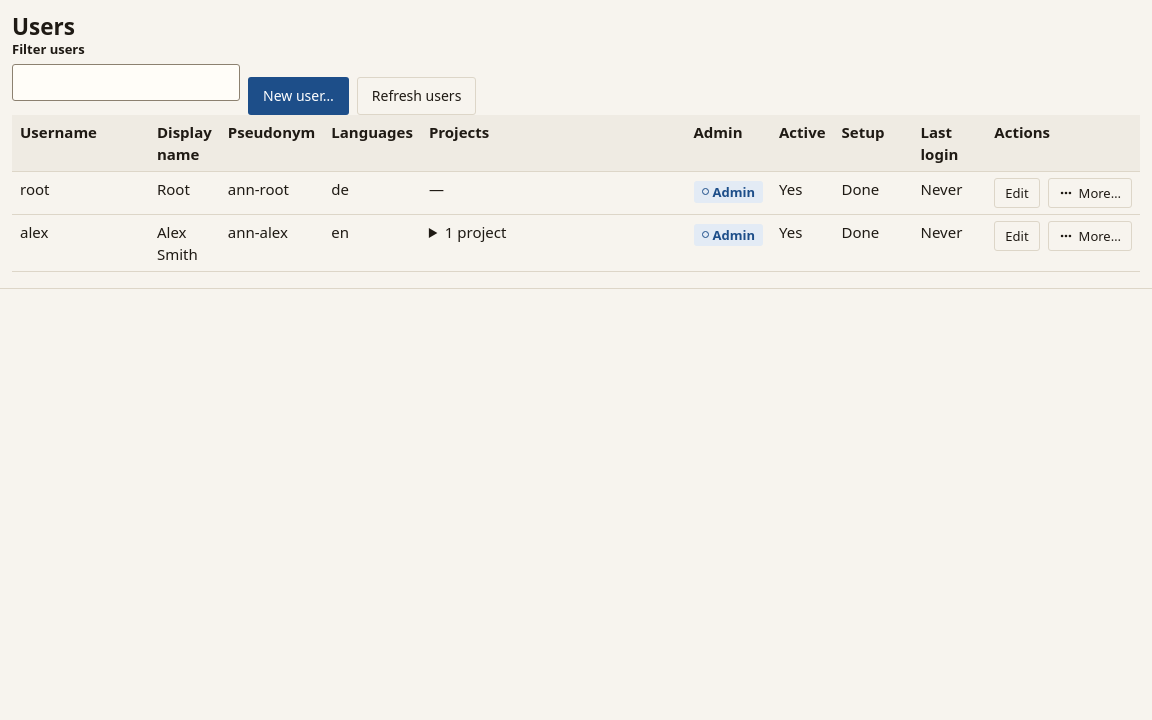
Test: users administration › issues a reset code for the selected actual username only after confirmation
Click the button "More…" in the row of "Alex Smith".
click(1090, 236)  # box [1048,221,1132,251]
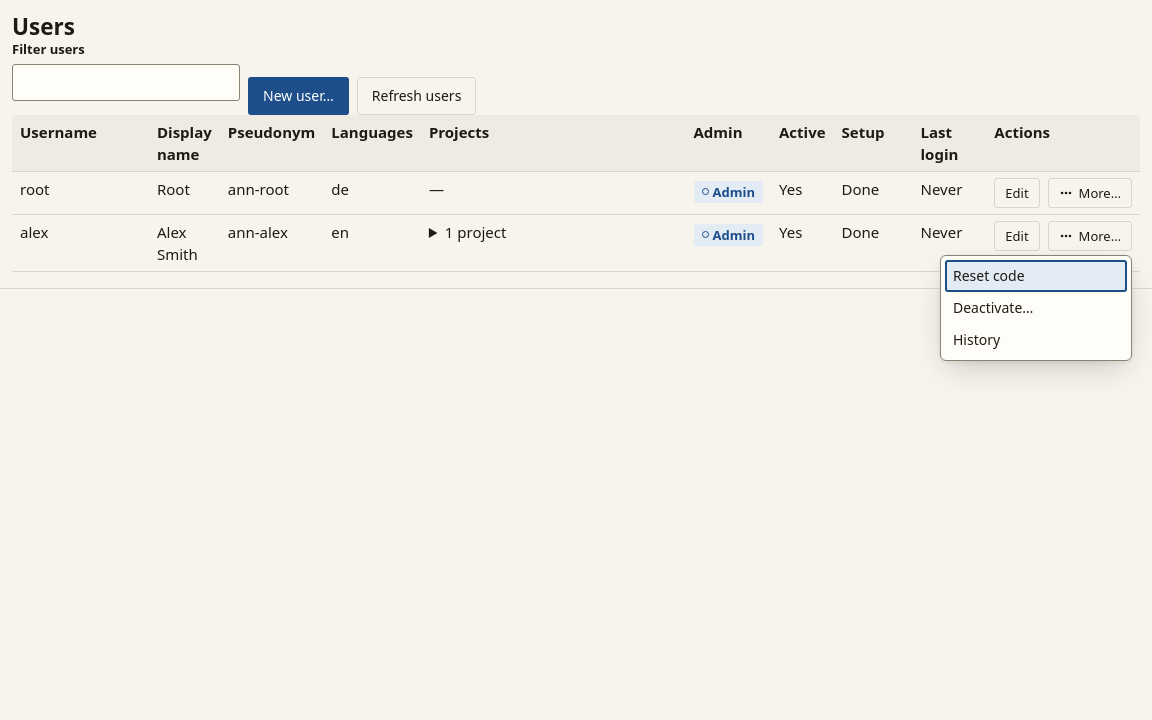
Click the menu item "Reset code".
click(1036, 276)  # box [945,260,1127,292]
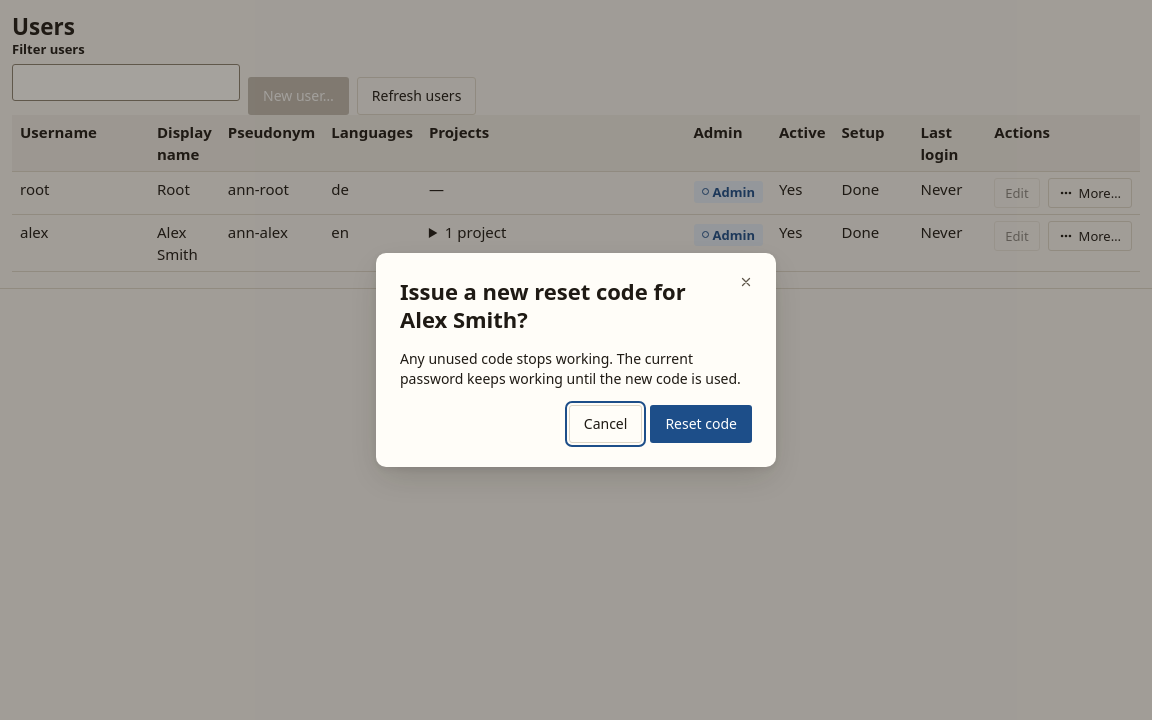
Expected: the dialog "Issue a new reset code for Alex Smith?" shows "Any unused code stops working.", [400,349,741,388]
Click the button "Cancel".
click(606, 424)  # box [569,405,642,443]
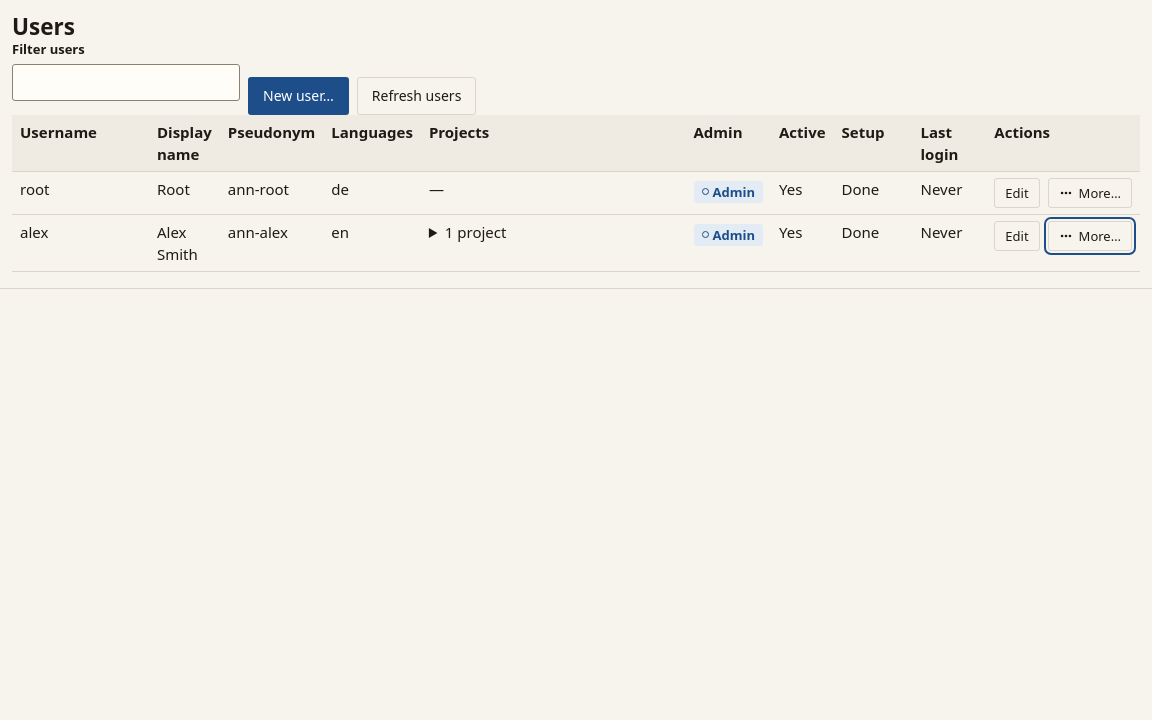
Click the button "More…" in the row of "Alex Smith".
click(1090, 236)  # box [1048,221,1132,251]
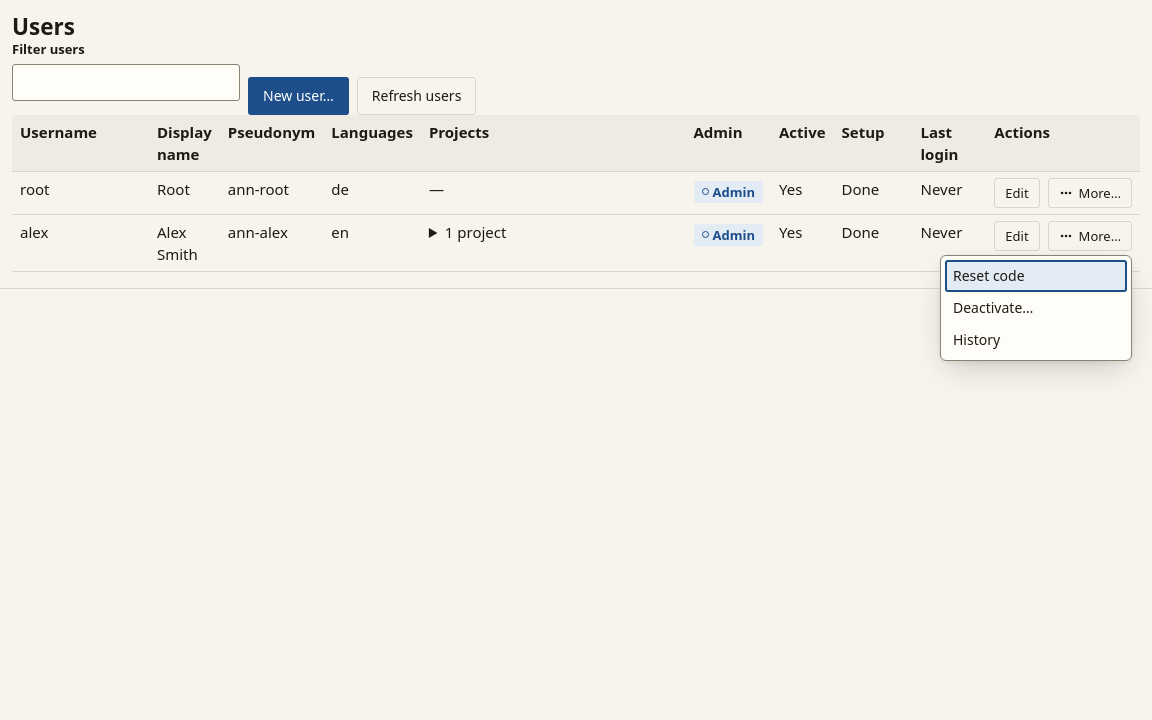
Click the menu item "Reset code".
click(1036, 276)  # box [945,260,1127,292]
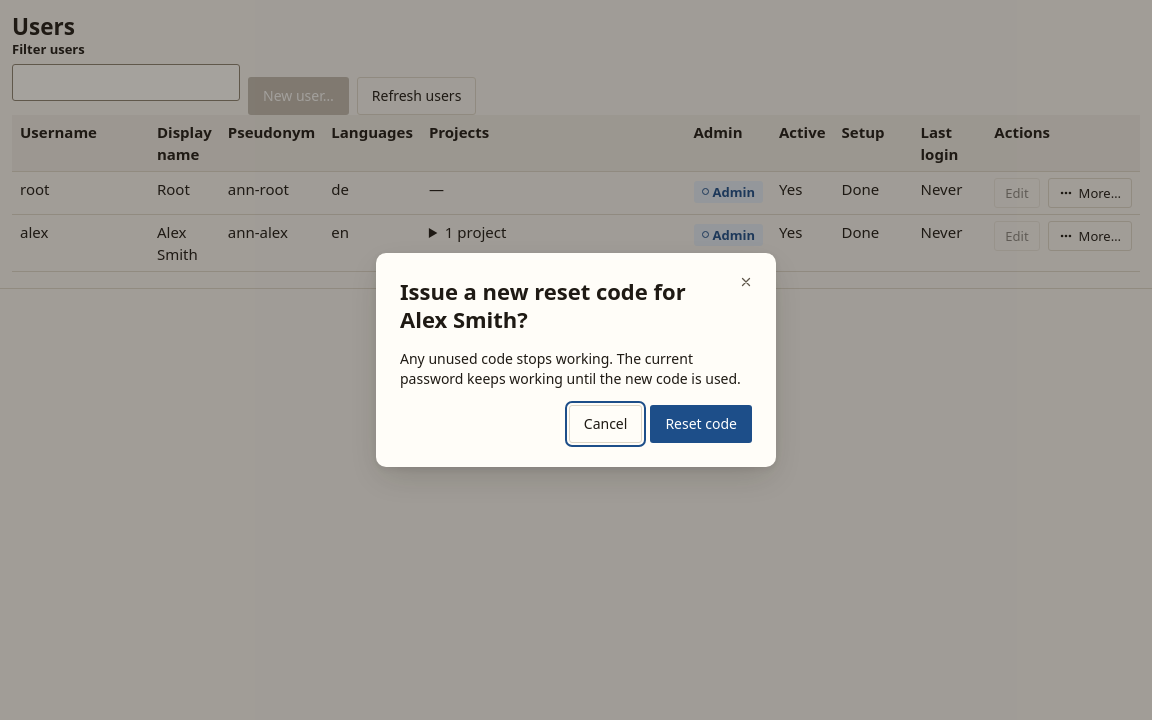
Click the button "Reset code".
click(701, 424)  # box [650,405,752,443]
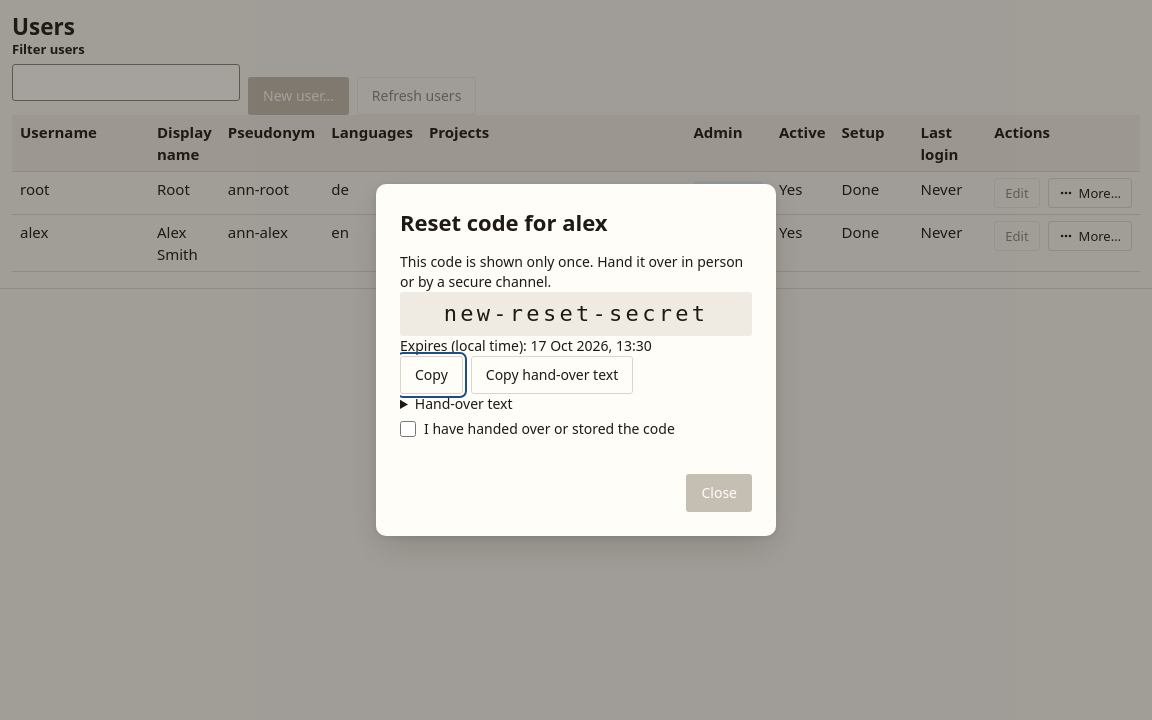
Expected: the text "new-reset-secret" is shown, [400,292,752,336]
